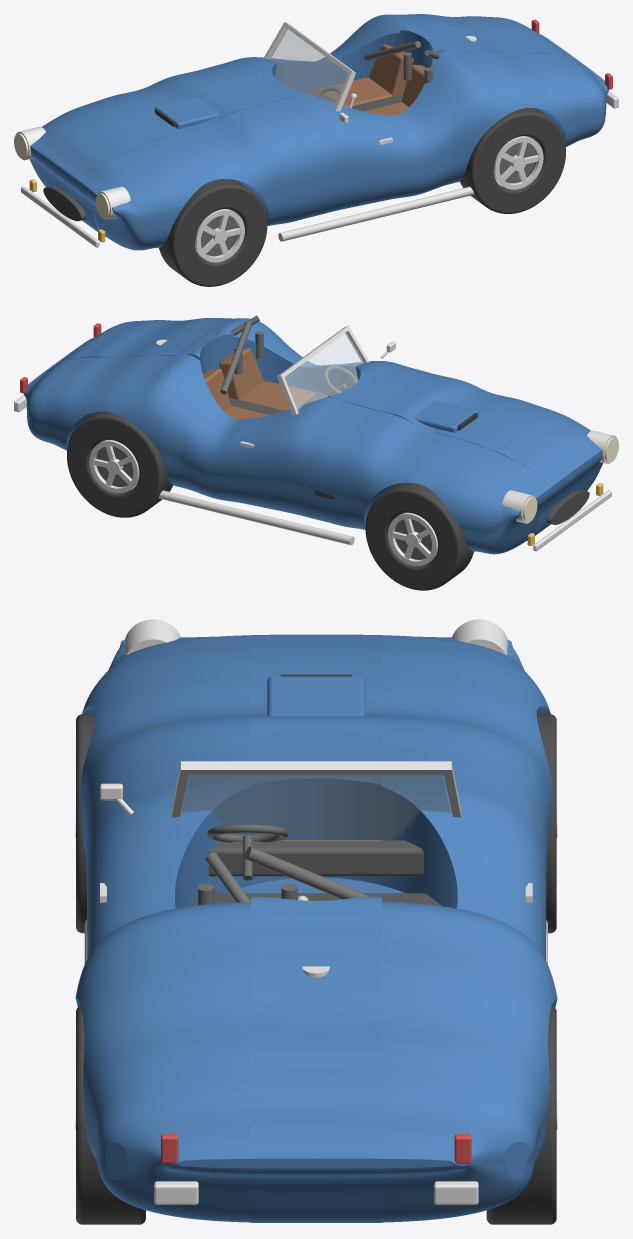
The picture shows the model from 3 angles, top to bottom: view 1: azimuth 30°, elevation 25°; view 2: azimuth 150°, elevation 25°; view 3: azimuth 270°, elevation 25°; orthographic projection. The views are drawn at different scales.
Visible parts, largest first — view 1: body, front_left_tyre, rear_left_tyre, windscreen_glass, seat_right, side_exhaust_left, rear_left_rim, front_left_rim, bonnet_scoop, windscreen_frame, seat_left, roll_bar (+6 smaller); view 2: body, front_right_tyre, rear_right_tyre, windscreen_glass, seat_left, side_exhaust_right, front_right_rim, rear_right_rim, bonnet_scoop, roll_bar, windscreen_frame, seat_right (+6 smaller); view 3: body, windscreen_glass, dashboard, windscreen_frame, rear_right_tyre, rear_left_tyre, bonnet_scoop, roll_bar, front_right_tyre, front_left_tyre, steering_wheel, headlight_bucket_right (+4 smaller).
Part boxes in pixels (<box>): body: <box>29,14,608,250</box>; front_left_tyre: <box>159,179,267,286</box>; rear_left_tyre: <box>460,108,565,213</box>; windscreen_glass: <box>269,29,347,106</box>; seat_right: <box>318,44,413,106</box>; side_exhaust_left: <box>278,179,502,241</box>; rear_left_rim: <box>493,136,543,189</box>; front_left_rim: <box>195,209,244,262</box>; bonnet_scoop: <box>154,96,219,128</box>; windscreen_frame: <box>264,22,355,111</box>; seat_left: <box>363,64,425,115</box>; roll_bar: <box>364,41,440,83</box>; body: <box>23,318,603,554</box>; front_right_tyre: <box>365,482,473,590</box>; rear_right_tyre: <box>67,411,172,517</box>; windscreen_glass: <box>285,332,364,410</box>; seat_left: <box>219,348,314,410</box>; side_exhaust_right: <box>130,483,354,545</box>; front_right_rim: <box>388,512,437,566</box>; rear_right_rim: <box>89,440,139,493</box>; bonnet_scoop: <box>413,400,478,432</box>; roll_bar: <box>220,315,263,394</box>; windscreen_frame: <box>277,325,369,415</box>; seat_right: <box>203,368,269,419</box>; body: <box>75,634,557,1222</box>; windscreen_glass: <box>181,774,450,840</box>; dashboard: <box>208,840,423,876</box>; windscreen_frame: <box>171,761,461,840</box>; rear_right_tyre: <box>486,1006,556,1224</box>; rear_left_tyre: <box>76,1006,145,1224</box>; bonnet_scoop: <box>267,676,365,716</box>; roll_bar: <box>198,846,369,904</box>; front_right_tyre: <box>536,714,556,933</box>; front_left_tyre: <box>76,714,95,933</box>; steering_wheel: <box>207,824,288,880</box>; headlight_bucket_right: <box>452,619,507,655</box>.
Size of the model in its own units: 4.04 by 1.17 by 1.62.
